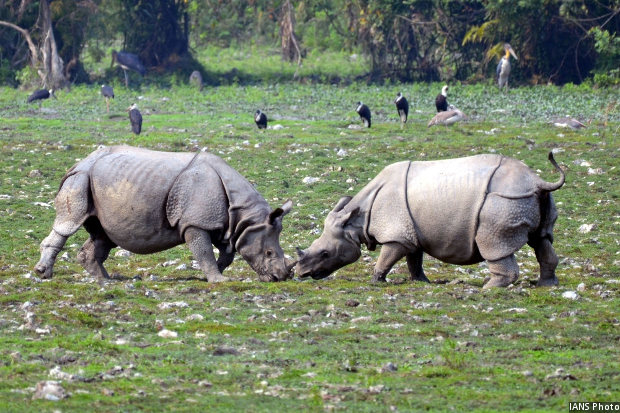rhinoceros: (288, 151, 571, 284), (32, 143, 294, 286)
